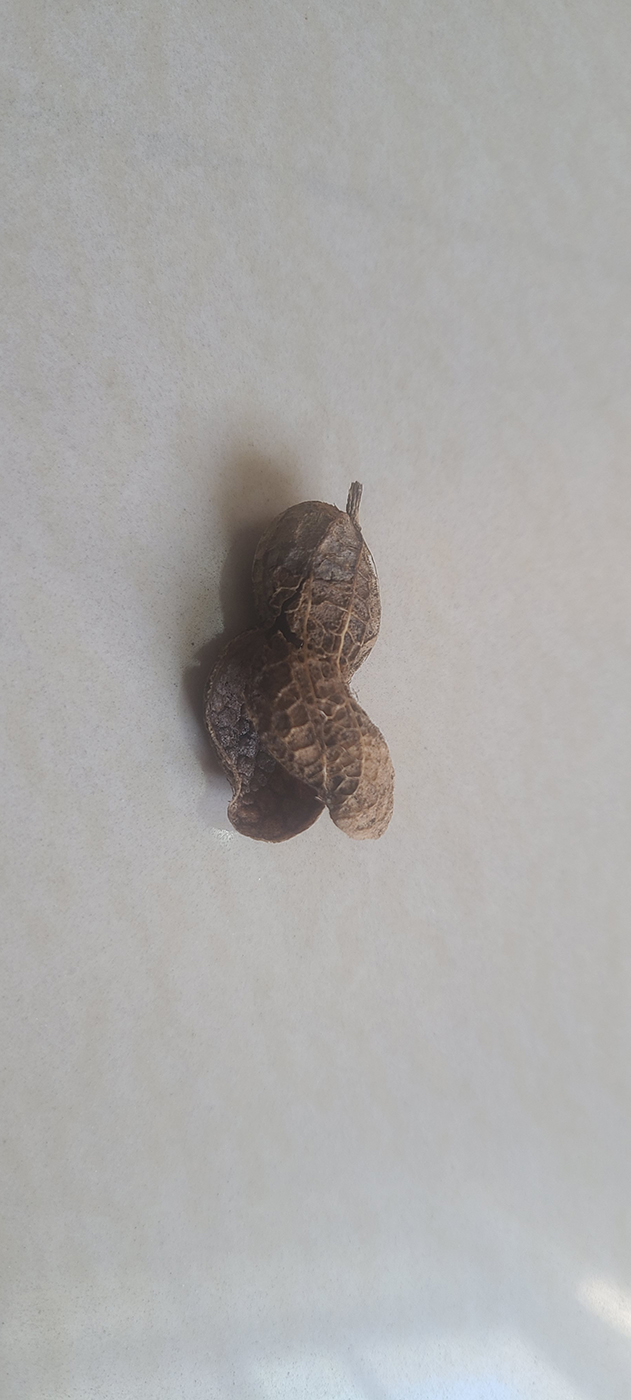l: (192, 497, 402, 851)
